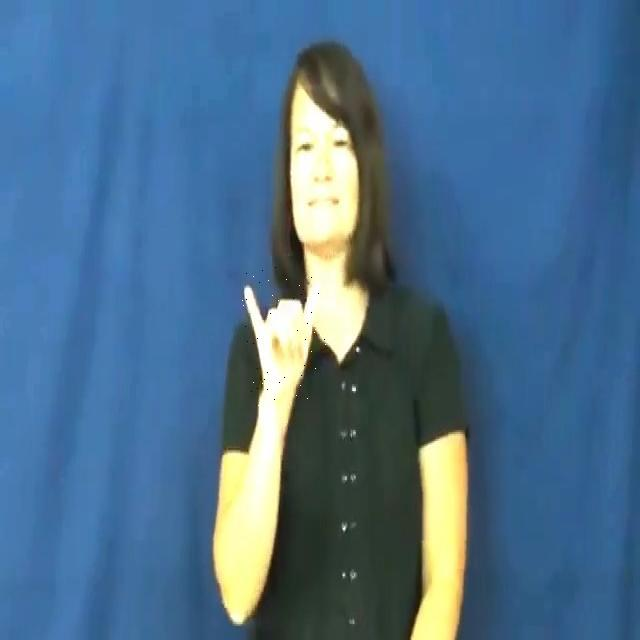hot: (240, 264, 326, 410)
